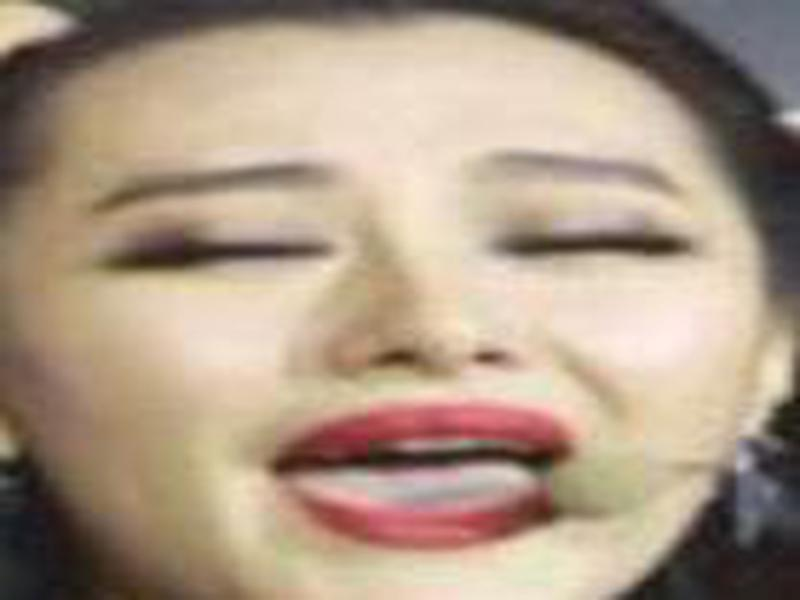without_mask: (25, 42, 744, 593)
